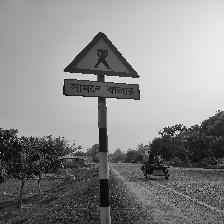Market-in-front: (63, 32, 141, 100)
